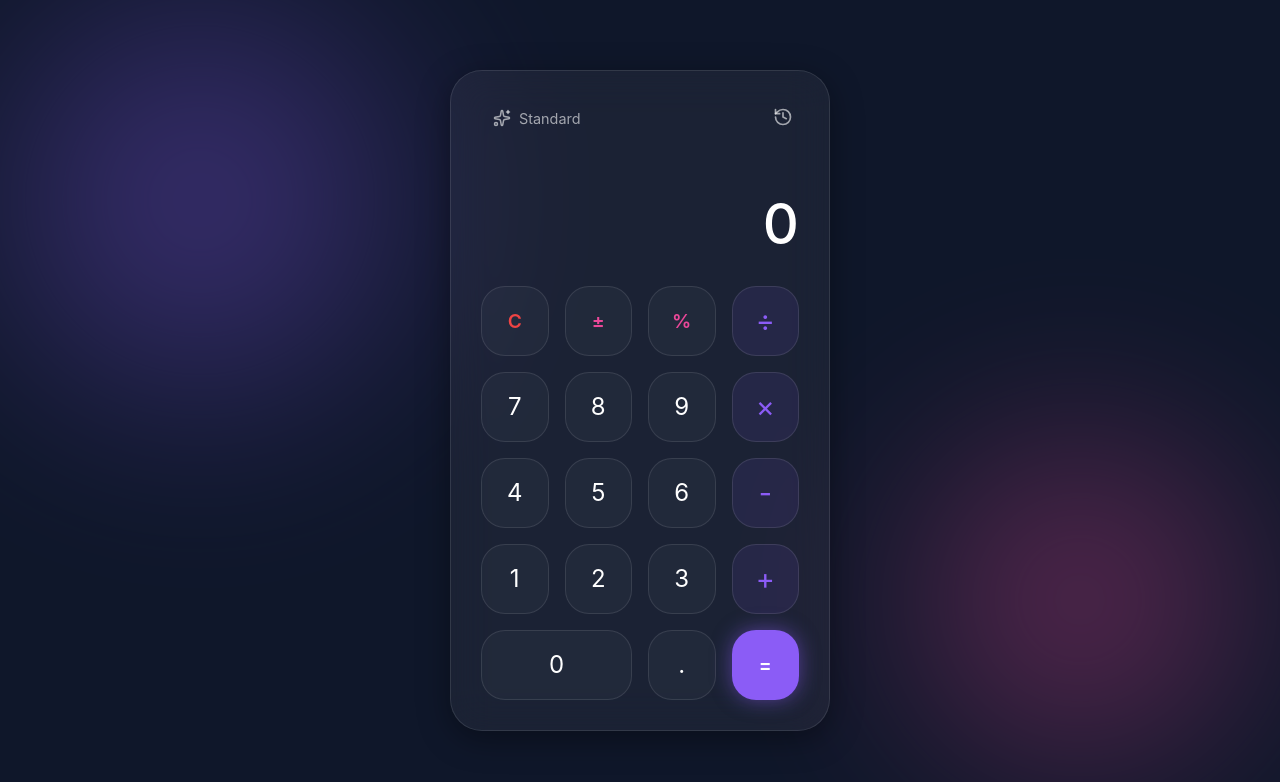
Test case: Calculator App › cycles through modes: Standard -> Scientific -> Graph -> Standard
# Click 1: Scientific
Click the text "Standard".
click(550, 118)  # box [519, 110, 580, 126]
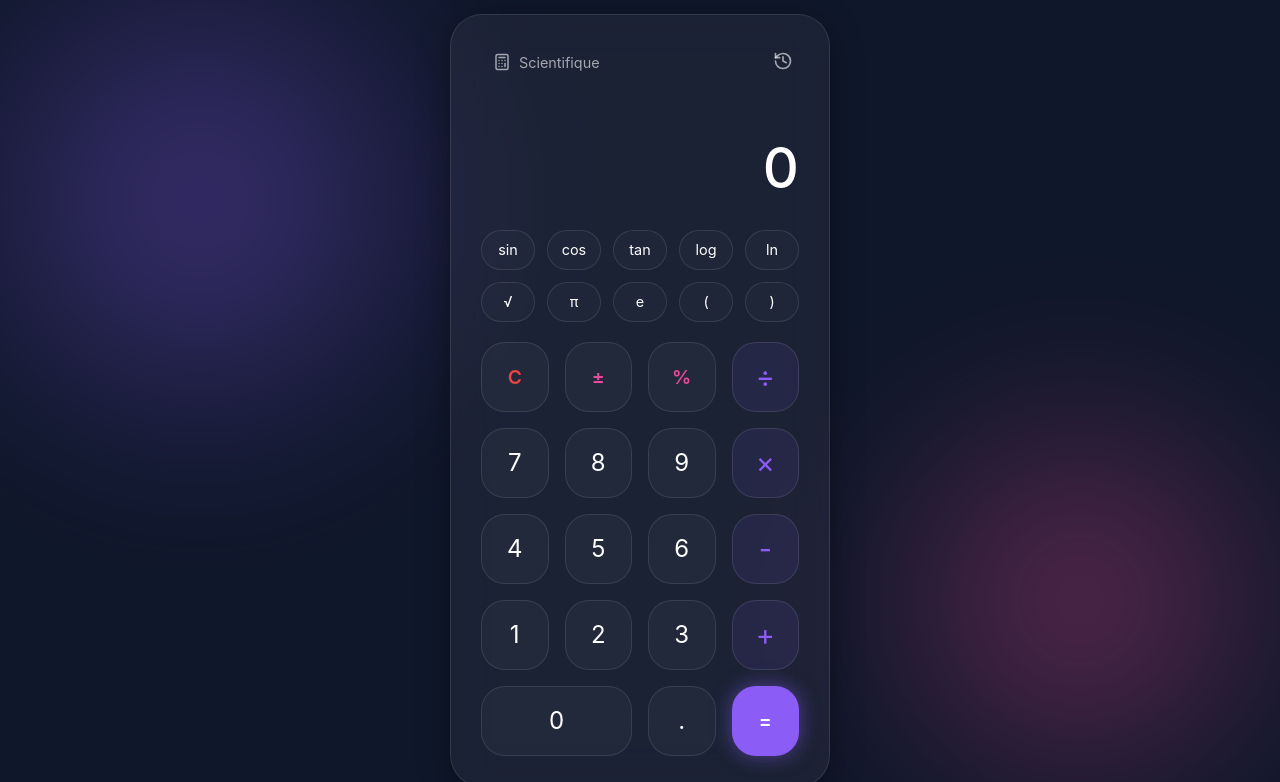
Check: the text "Scientifique" is shown
Check: the text "Standard" is gone
# Click 2: Graph
Click the text "Scientifique".
click(559, 62)  # box [519, 54, 600, 70]
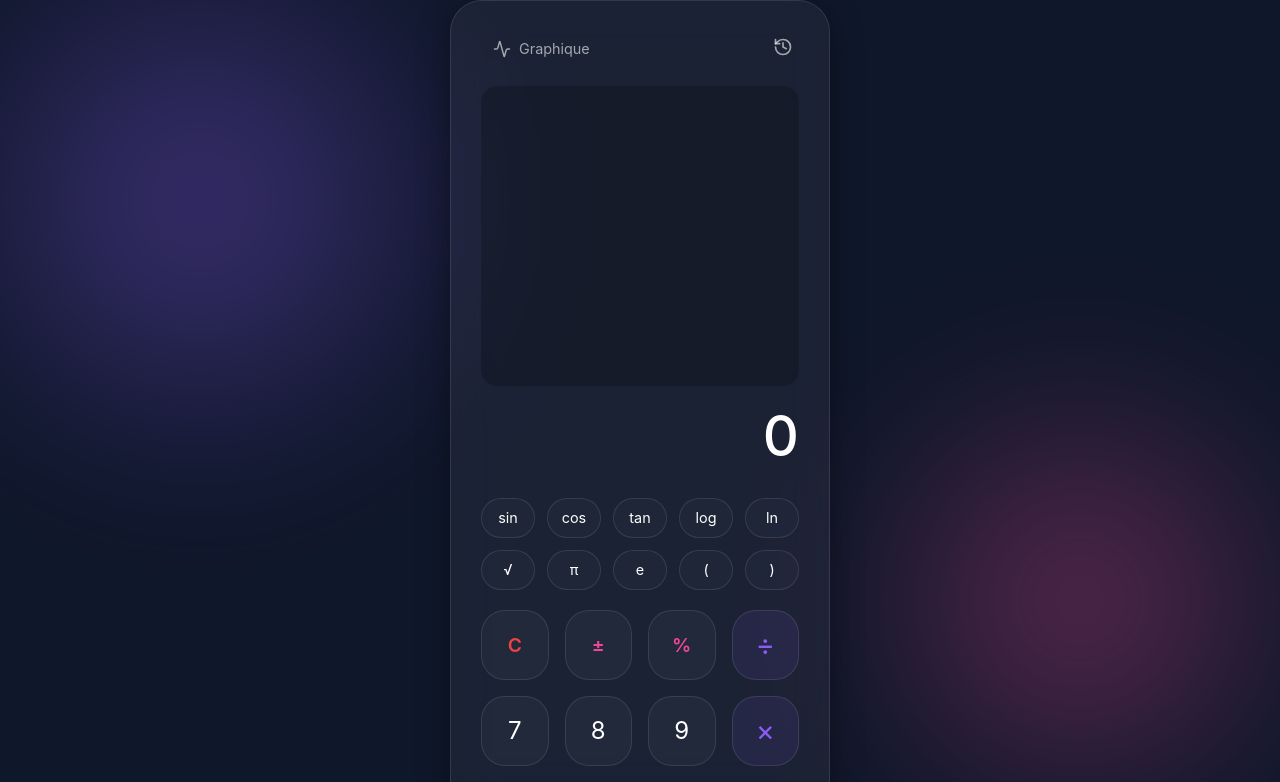
Check: the button "sin" is shown, box [481, 498, 535, 538]
Check: the text "Graphique" is shown
# Click 3: Back to Standard
Click the text "Graphique".
click(554, 48)  # box [519, 40, 590, 57]
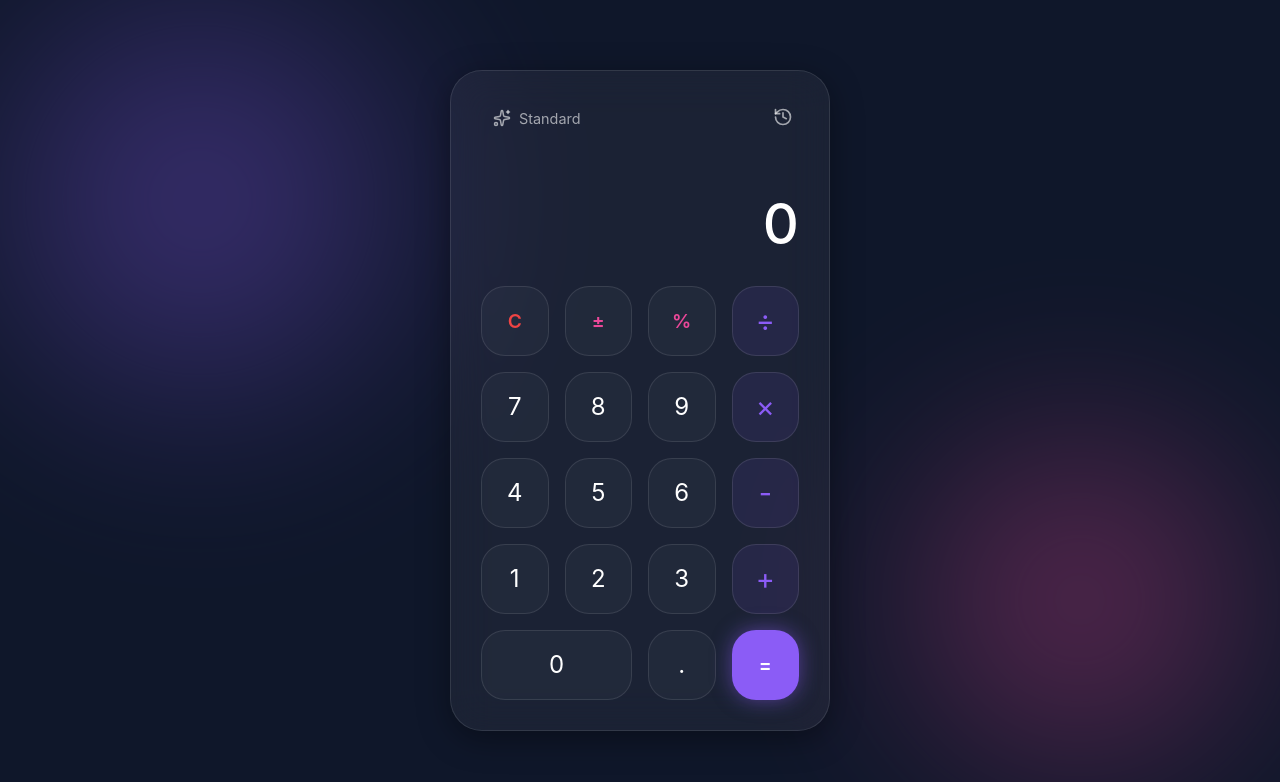
Check: the text "Standard" is shown, box [519, 110, 580, 126]
